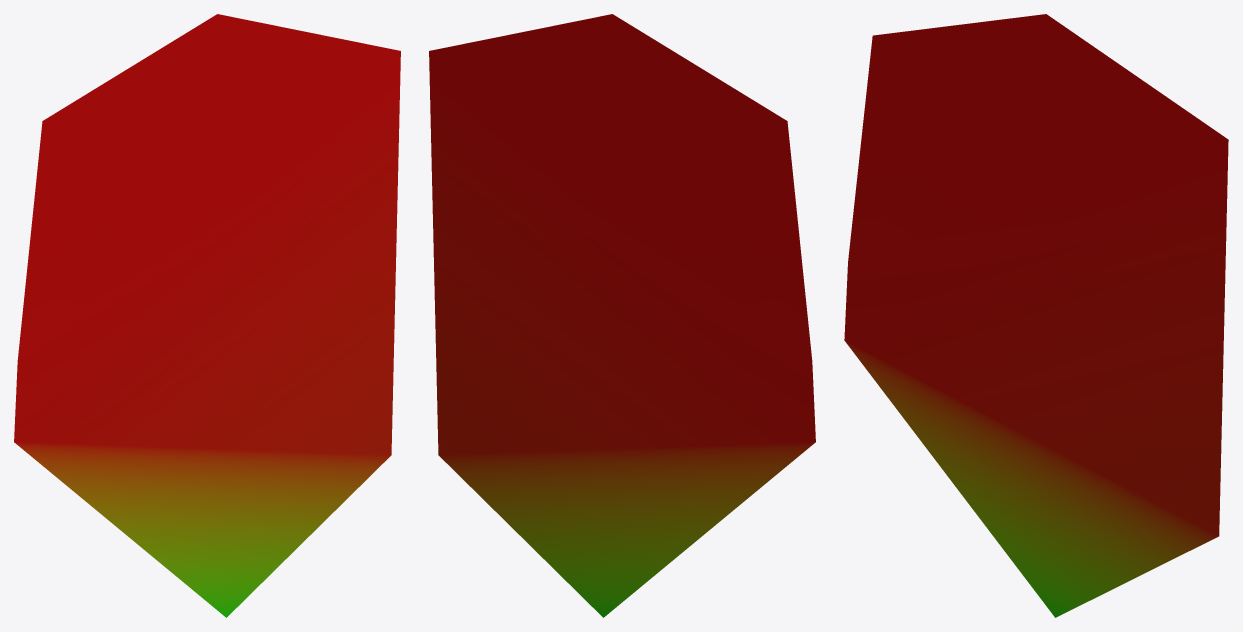
Rendered from Leptadenia_LOD5_Var1_xdkgfgtqx.fbx.
3 views of the same model, side by side, from view 1: azimuth 30°, elevation 25°; view 2: azimuth 150°, elevation 25°; view 3: azimuth 330°, elevation 25° (orthographic).
Parts seen in each view (by area): view 1: _r40t_Var1_LOD5; view 2: _r40t_Var1_LOD5; view 3: _r40t_Var1_LOD5.
Part boxes in pixels (x1,y1,x2,y2): _r40t_Var1_LOD5: (14,14,400,617); _r40t_Var1_LOD5: (429,14,815,617); _r40t_Var1_LOD5: (844,14,1228,617).
Size of the model in its own units: 119 by 179 by 0.
